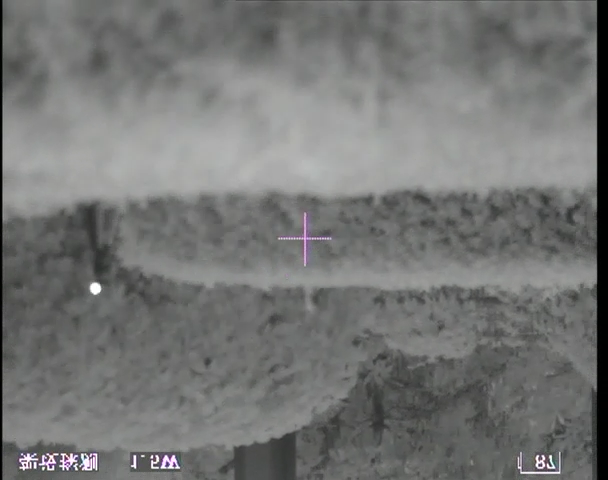my: (88, 281, 102, 296)
